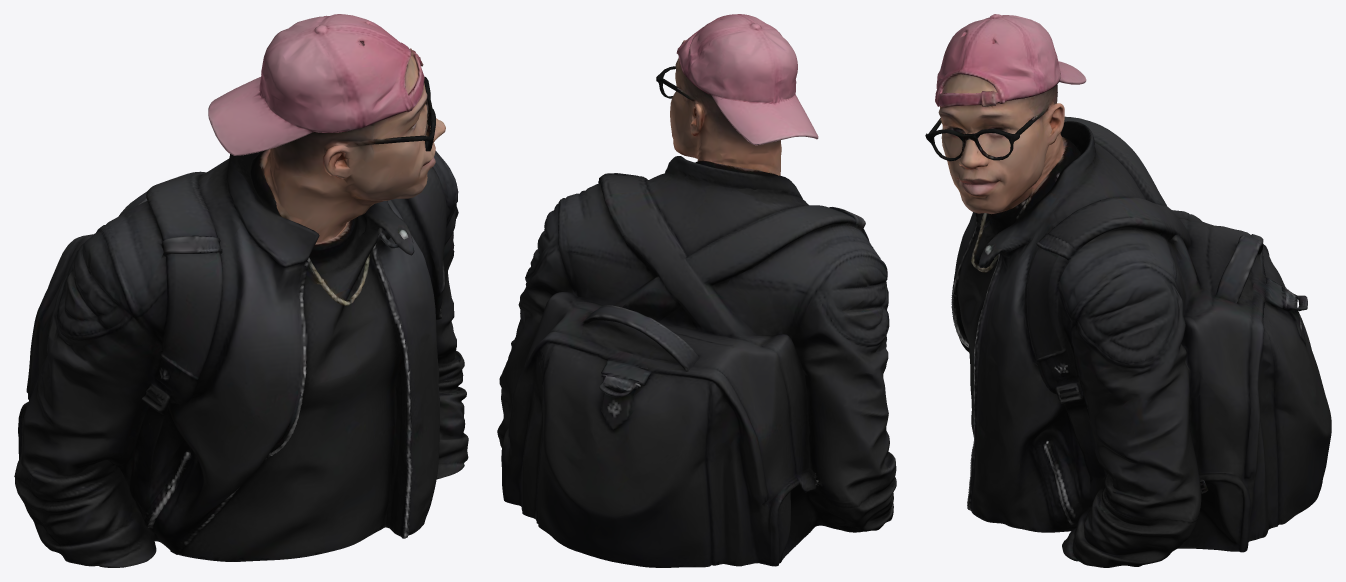
The model's file is human+character+3d+model.glb.
3 views of the same model, side by side, from view 1: azimuth 30°, elevation 25°; view 2: azimuth 150°, elevation 25°; view 3: azimuth 270°, elevation 25° (orthographic). The views are drawn at different scales.
Parts seen in each view (by area): view 1: tripo_node_842537fd-9bea-45cf-947d-75dcac277b87; view 2: tripo_node_842537fd-9bea-45cf-947d-75dcac277b87; view 3: tripo_node_842537fd-9bea-45cf-947d-75dcac277b87.
Boxes of the visible parts, x1=… form: tripo_node_842537fd-9bea-45cf-947d-75dcac277b87: x1=14, y1=14, x2=468, y2=567; tripo_node_842537fd-9bea-45cf-947d-75dcac277b87: x1=497, y1=14, x2=896, y2=567; tripo_node_842537fd-9bea-45cf-947d-75dcac277b87: x1=925, y1=14, x2=1331, y2=567.
Size of the model in its own units: 0.8813 by 0.9801 by 0.7753.
1 material, 1 textured.
